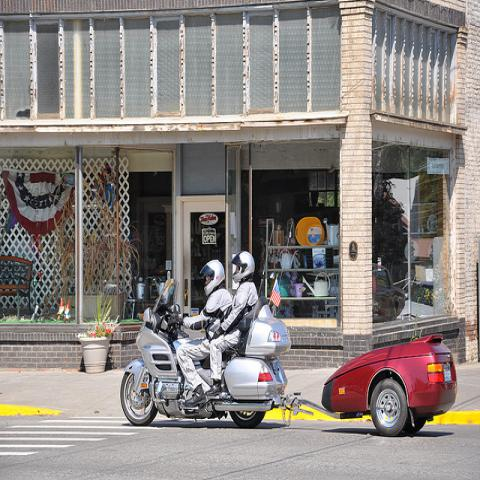car: (323, 331, 458, 438)
motorcycle: (121, 273, 292, 428)
